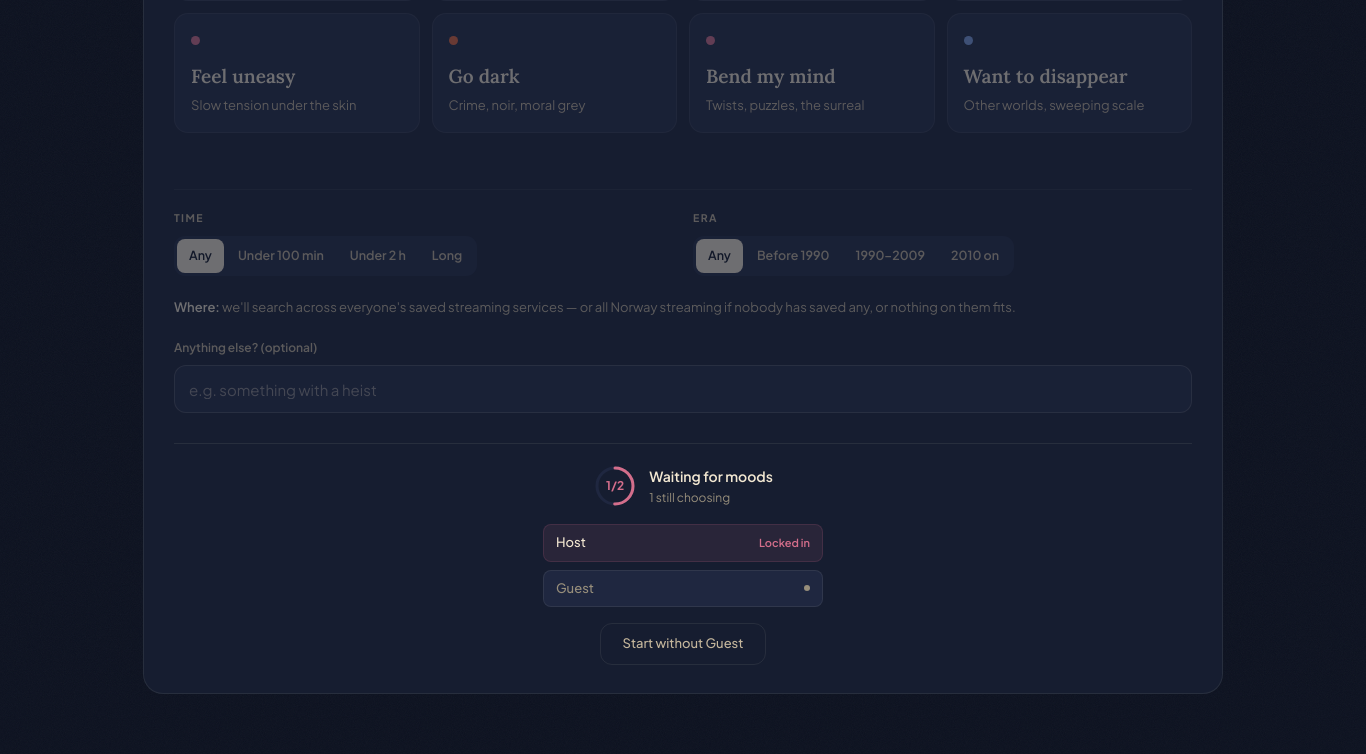
Test: Group mood page › doesn't let a read from before the picks were handed back bring waiting back
(page scrolled)
Click the button "Start without Guest".
click(683, 644)  # box [600, 623, 766, 664]
(page scrolled)
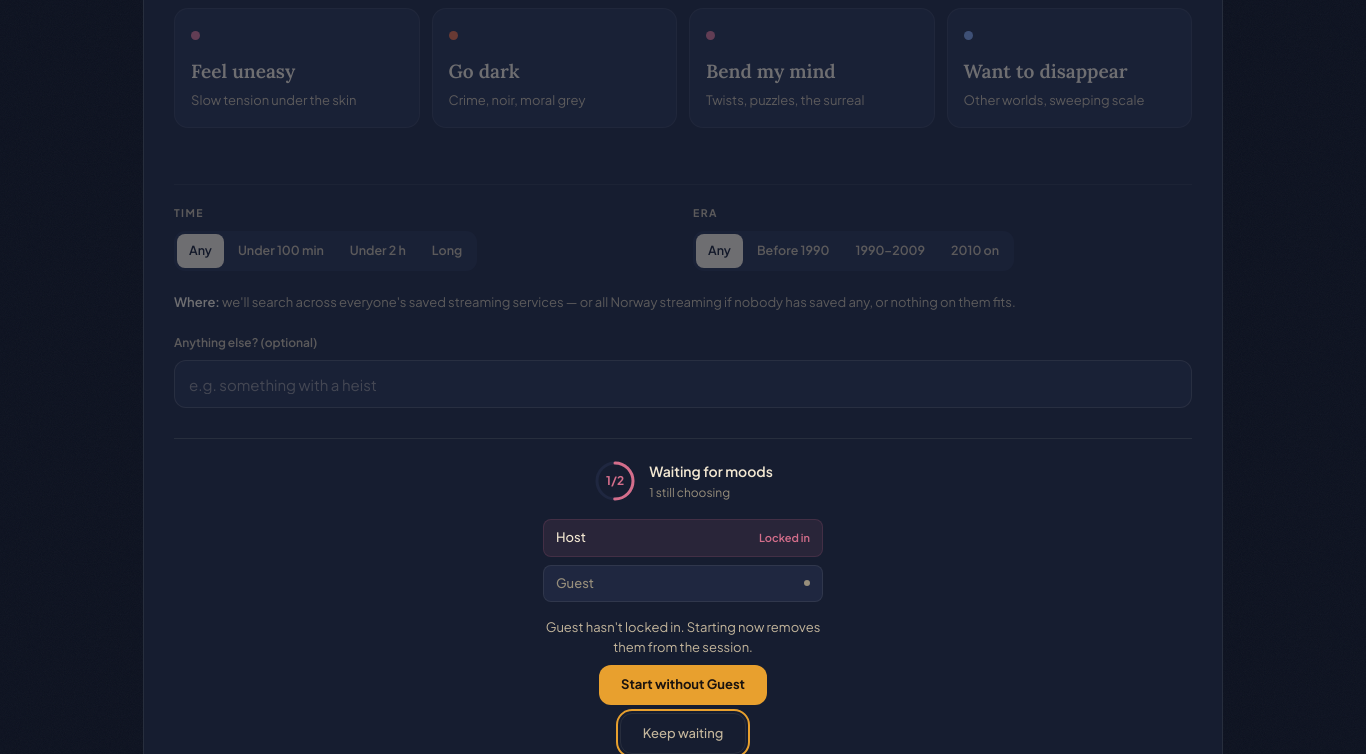
Click the button "Start without Guest".
click(683, 685)  # box [599, 665, 767, 704]
(page scrolled)
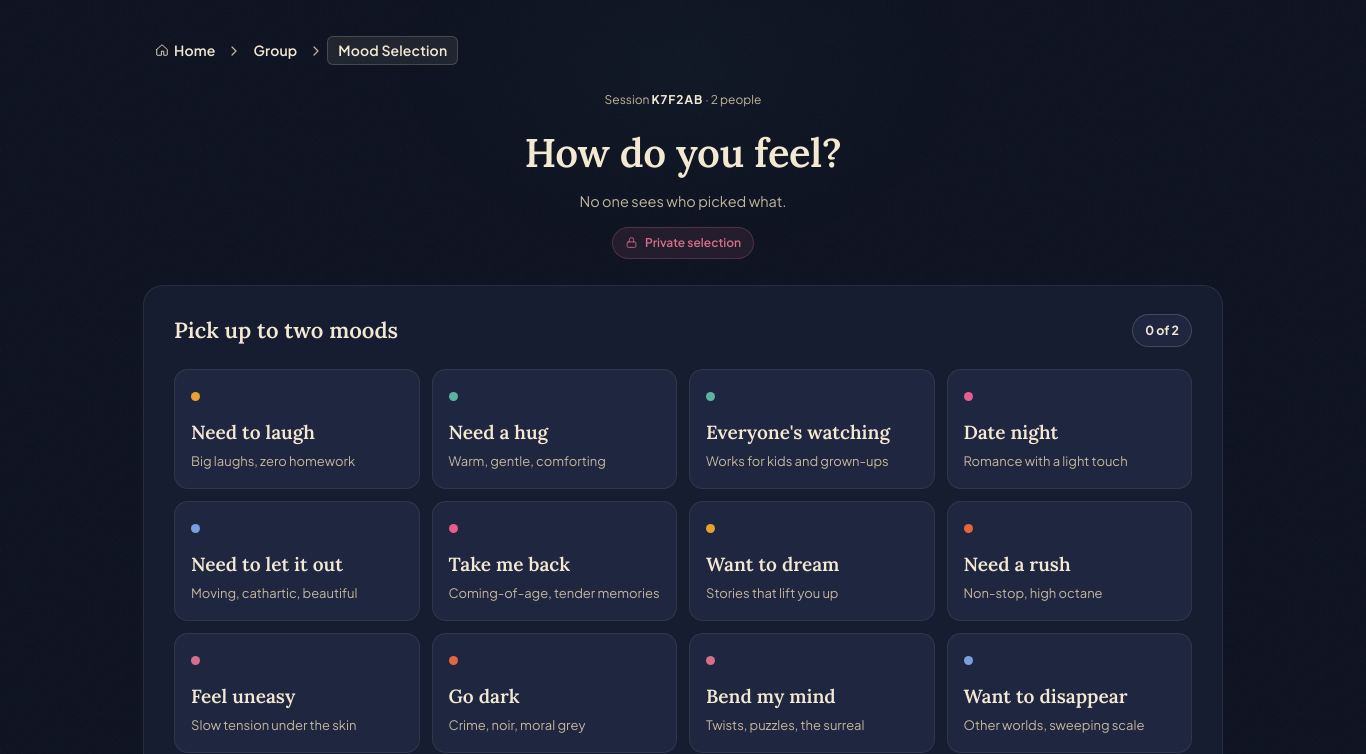
Now the heading "How do you feel?" is shown, box [525, 123, 842, 183]
